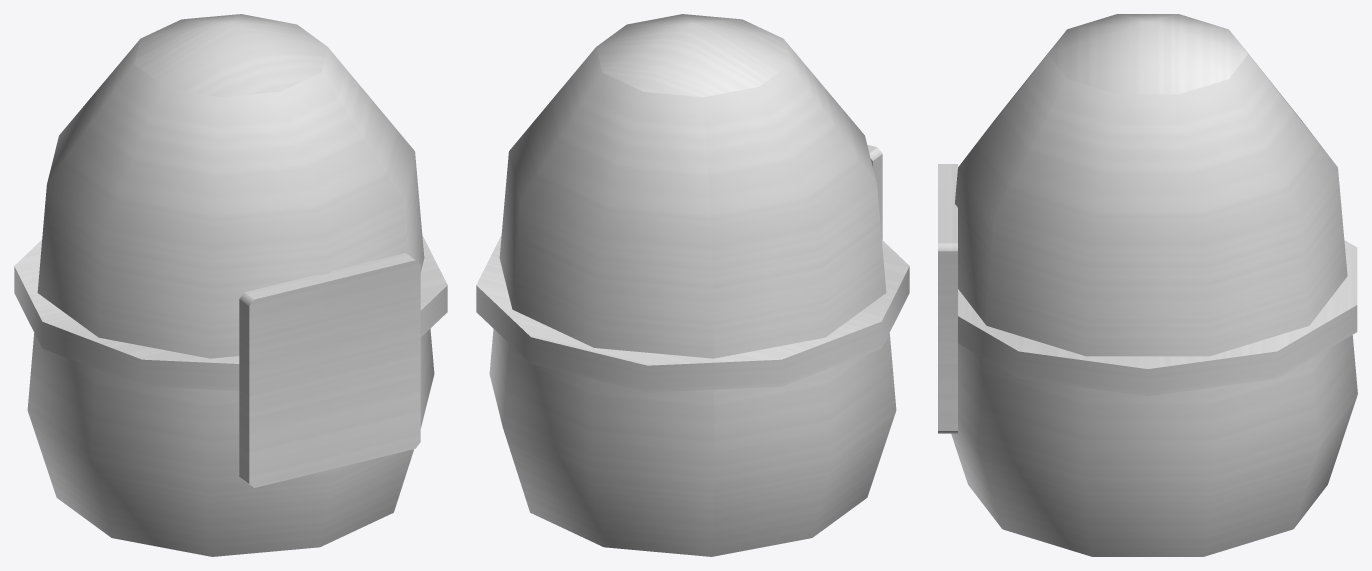
File: transport_pod.obj
3 views of the same model, side by side, from view 1: azimuth 30°, elevation 25°; view 2: azimuth 150°, elevation 25°; view 3: azimuth 270°, elevation 25° (orthographic).
Parts seen in each view (by area): view 1: retained_0, hatch_panel, retained_76; view 2: retained_0, retained_76, hatch_panel; view 3: retained_0, retained_76, hatch_panel.
Boxes of the visible parts, x1,y1,x2,y2 form: retained_0: [27, 14, 434, 556]; hatch_panel: [239, 253, 420, 487]; retained_76: [14, 235, 447, 390]; retained_0: [489, 14, 896, 556]; retained_76: [476, 235, 909, 392]; hatch_panel: [867, 145, 882, 239]; retained_0: [951, 14, 1357, 556]; retained_76: [958, 240, 1357, 396]; hatch_panel: [938, 164, 957, 433].
Bounding box in the file's own units: 0.88 × 1.02 × 0.84.
